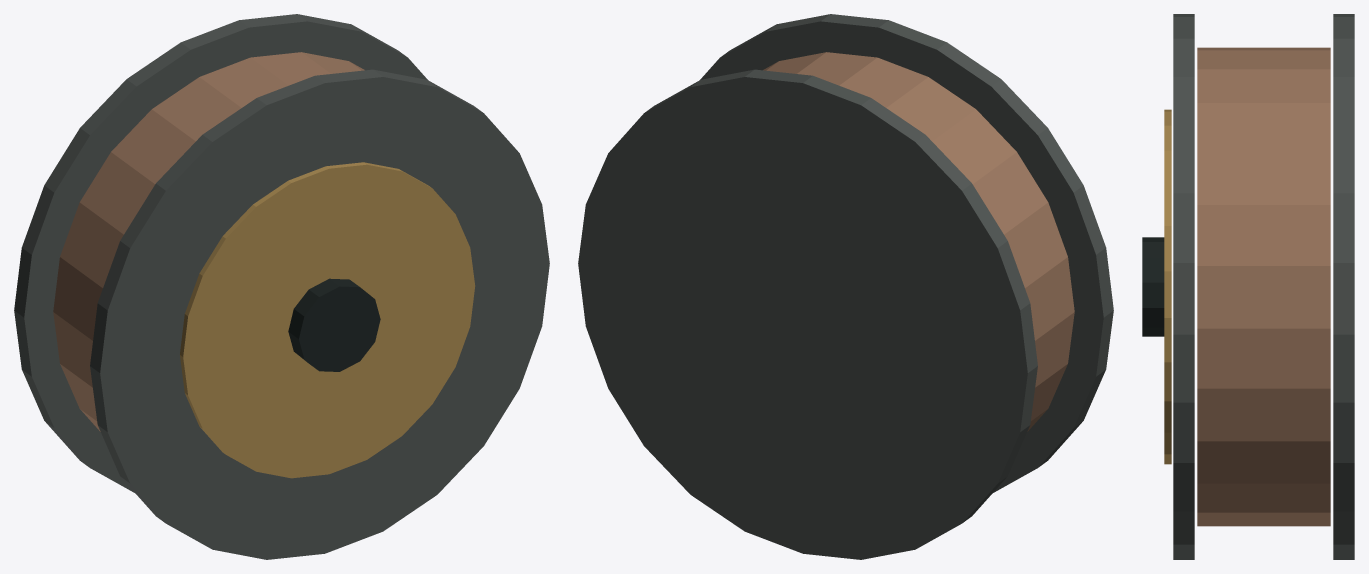
The model's file is heavy_braid.glb.
3 renders of one model, left to right at view 1: azimuth 30°, elevation 25°; view 2: azimuth 150°, elevation 25°; view 3: azimuth 270°, elevation 25°, orthographic. The views are drawn at different scales.
Visible parts, largest first — view 1: Spool_flange.012, Front_label.006, Spool_flange.013, Wound_line.006, Center_hub; view 2: Spool_flange.013, Spool_flange.012, Wound_line.006; view 3: Wound_line.006, Spool_flange.012, Spool_flange.013, Front_label.006, Center_hub.
Part boxes in pixels (x1=…): Spool_flange.012: x1=90, y1=69, x2=549, y2=559; Front_label.006: x1=180, y1=162, x2=475, y2=478; Spool_flange.013: x1=14, y1=14, x2=427, y2=493; Wound_line.006: x1=53, y1=52, x2=364, y2=431; Center_hub: x1=288, y1=278, x2=380, y2=371; Spool_flange.013: x1=578, y1=69, x2=1037, y2=559; Spool_flange.012: x1=700, y1=14, x2=1113, y2=493; Wound_line.006: x1=763, y1=52, x2=1074, y2=431; Wound_line.006: x1=1197, y1=47, x2=1330, y2=526; Spool_flange.012: x1=1173, y1=14, x2=1194, y2=559; Spool_flange.013: x1=1333, y1=14, x2=1354, y2=559; Front_label.006: x1=1164, y1=109, x2=1171, y2=464; Center_hub: x1=1142, y1=237, x2=1164, y2=336.
Bounding box in the file's own units: 0.308 × 0.308 × 0.1195.
